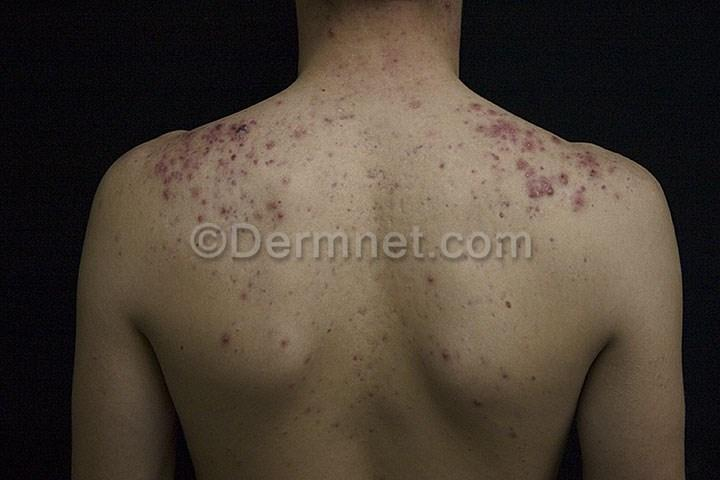Acne: (466, 108, 546, 155), (134, 147, 208, 193), (511, 176, 590, 213), (206, 117, 259, 151)
